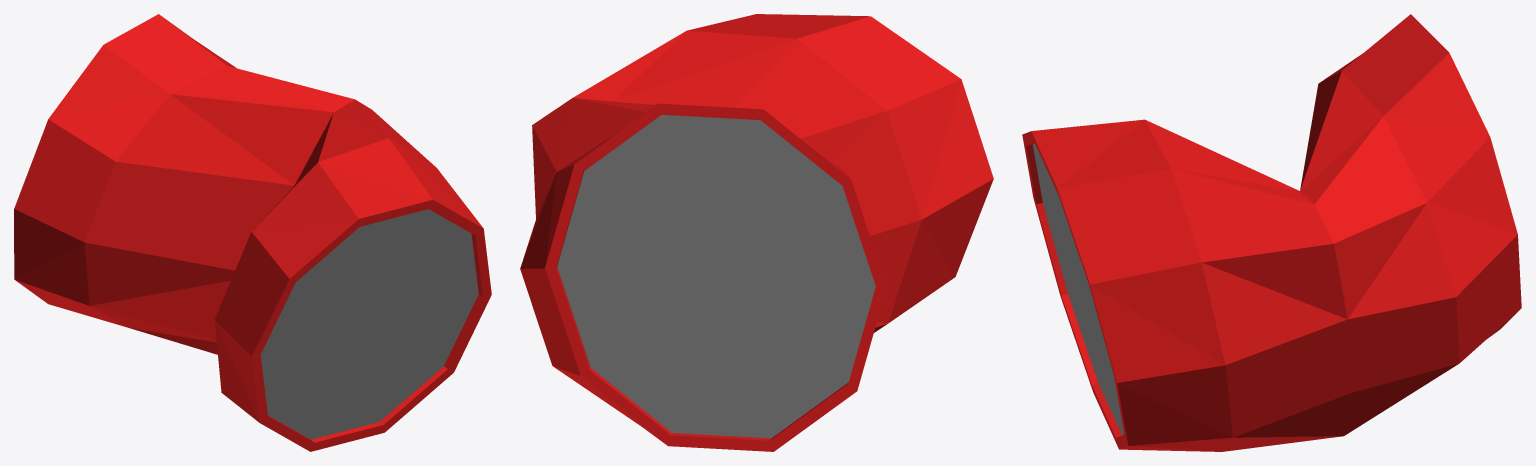
The model's file is squashed_can.dae.
3 renders of one model, left to right at view 1: azimuth 30°, elevation 25°; view 2: azimuth 150°, elevation 25°; view 3: azimuth 270°, elevation 25°, orthographic. The views are drawn at different scales.
Visible parts, largest first — view 1: Cylinder; view 2: Cylinder; view 3: Cylinder.
Boxes of the visible parts, box(x1,y1,x2,y2) form: Cylinder: box(14, 14, 491, 451); Cylinder: box(520, 14, 993, 451); Cylinder: box(1022, 14, 1521, 451).
Bounding box in the file's own units: 0.3342 × 0.3745 × 0.296.
